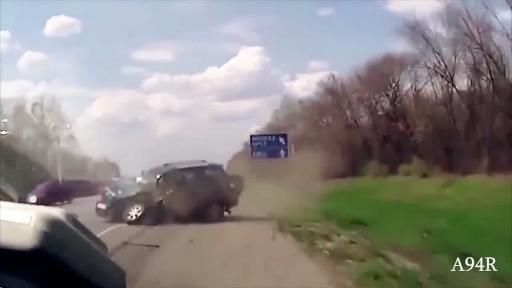Accident-fire-smoke: (21, 102, 338, 242)
